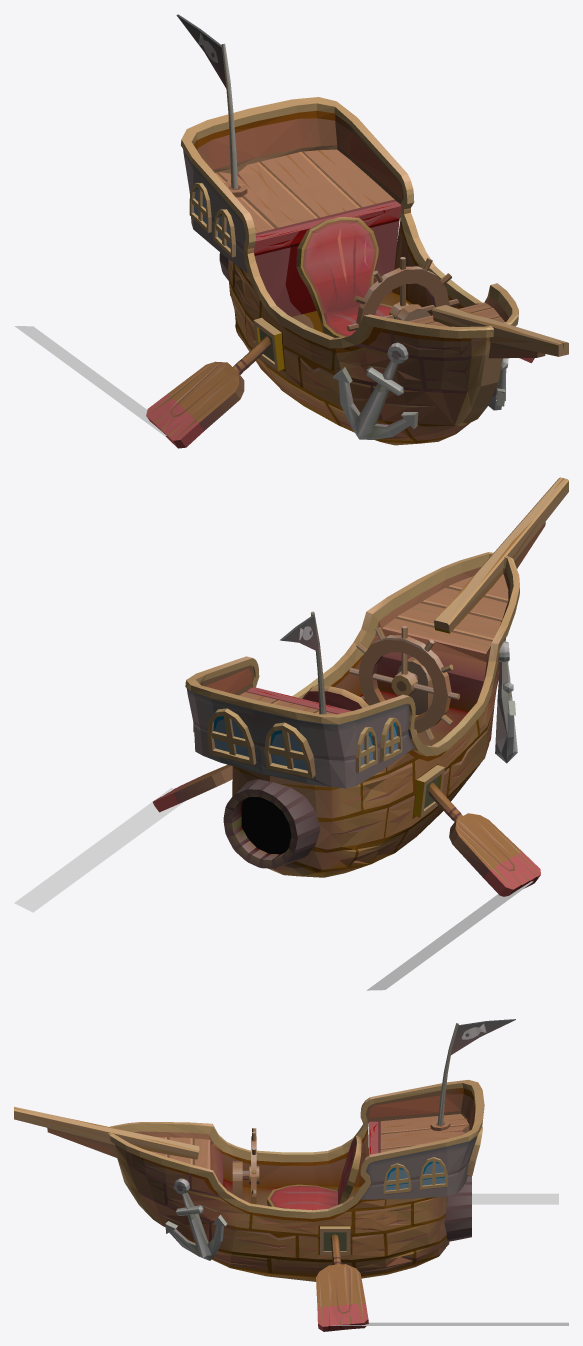
The model's file is GingerPirateAirplane.glb.
3 renders of one model, top to bottom at view 1: azimuth 30°, elevation 25°; view 2: azimuth 150°, elevation 25°; view 3: azimuth 270°, elevation 25°, orthographic. The views are drawn at different scales.
Visible parts, largest first — view 1: airplane, Trail2; view 2: airplane, Trail1, Trail2; view 3: airplane, Trail2, Trail1.
Boxes of the visible parts, box(x1,y1,x2,y2) form: airplane: box(146, 14, 568, 448); Trail2: box(14, 326, 166, 435); airplane: box(153, 477, 568, 896); Trail1: box(14, 787, 185, 912); Trail2: box(366, 881, 533, 990); airplane: box(14, 1019, 515, 1331); Trail2: box(472, 1193, 558, 1204); Trail1: box(331, 1322, 568, 1325).
Size of the model in its own units: 0.7925 by 0.6516 by 1.38.
